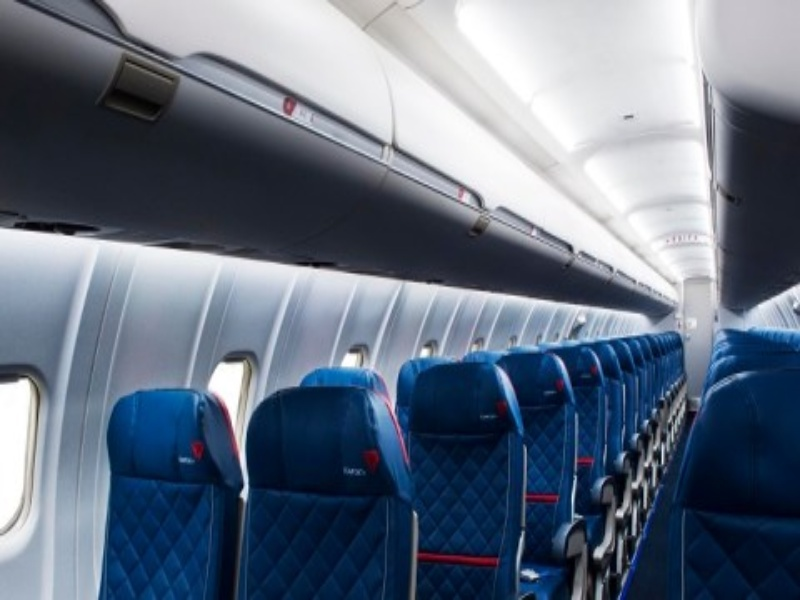close_bin: (1, 1, 391, 212), (385, 50, 544, 307), (683, 2, 789, 201), (543, 154, 617, 330), (694, 171, 775, 255), (702, 239, 772, 313), (615, 223, 650, 333), (644, 241, 672, 327)
